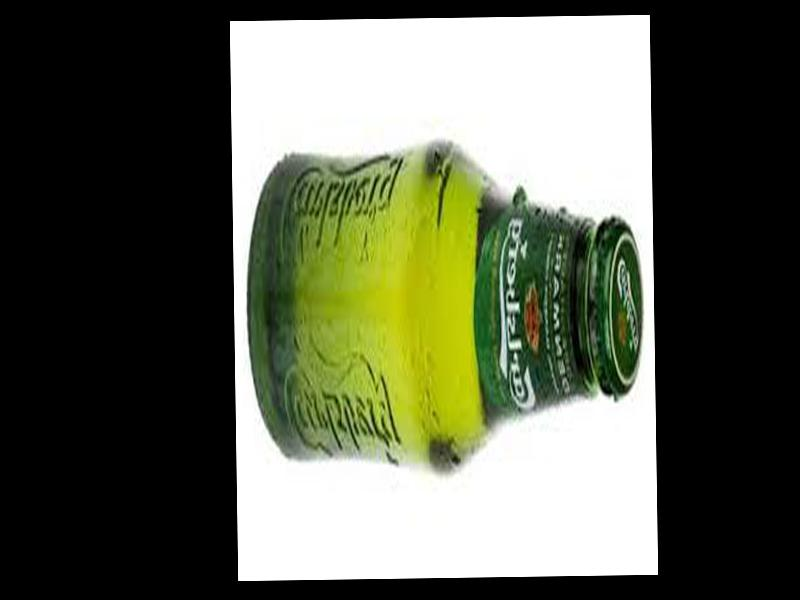Beer: (242, 141, 644, 468)
